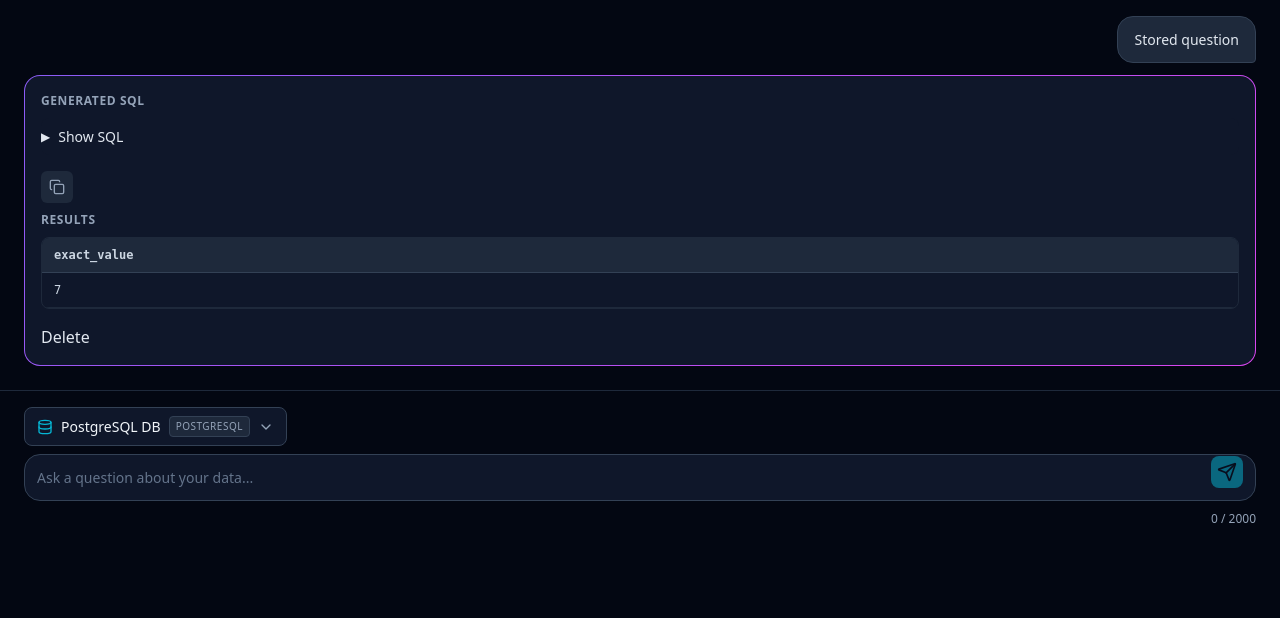
it: Workspace result deletion recovery › restores an ambiguously uncommitted delete from authoritative presence
The image size is (1280, 618).
Click the button with test id "action-delete-result".
click(65, 337)  # box [41,325,90,349]
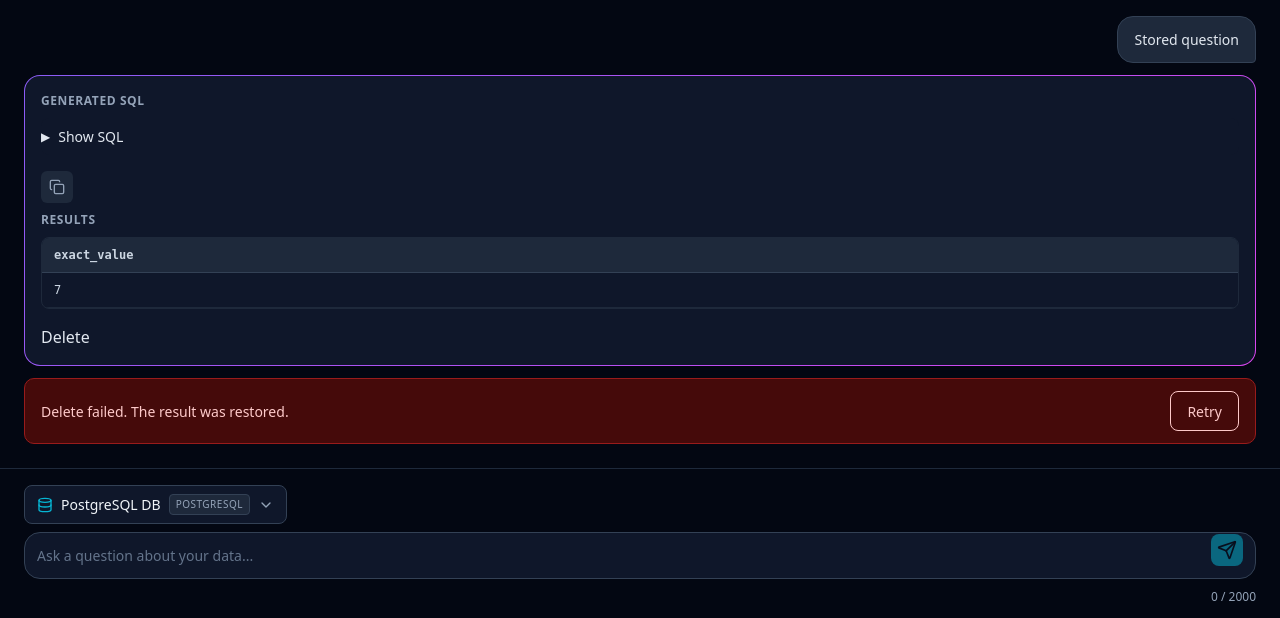
Expected: the text "Stored question" is shown, [1134,29,1239,50]
Expected: the message "Delete failed. The result was restored." is shown, [24,378,1256,444]
